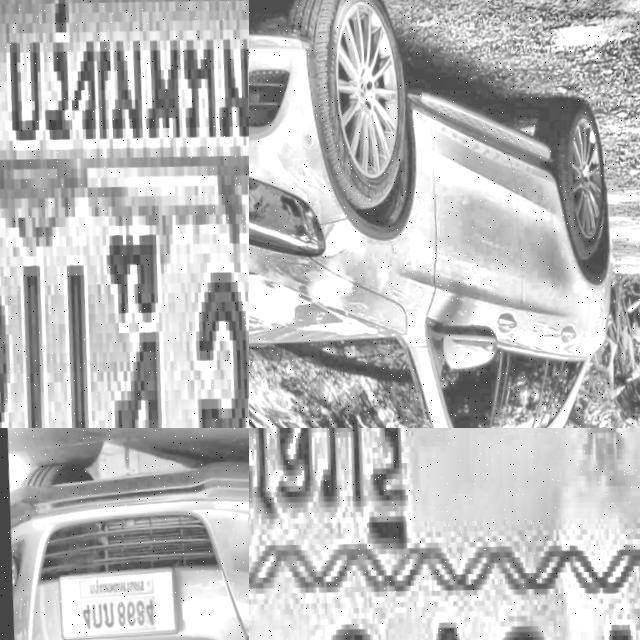license-plate: (0, 0, 249, 428), (249, 428, 640, 640), (53, 561, 179, 640)
